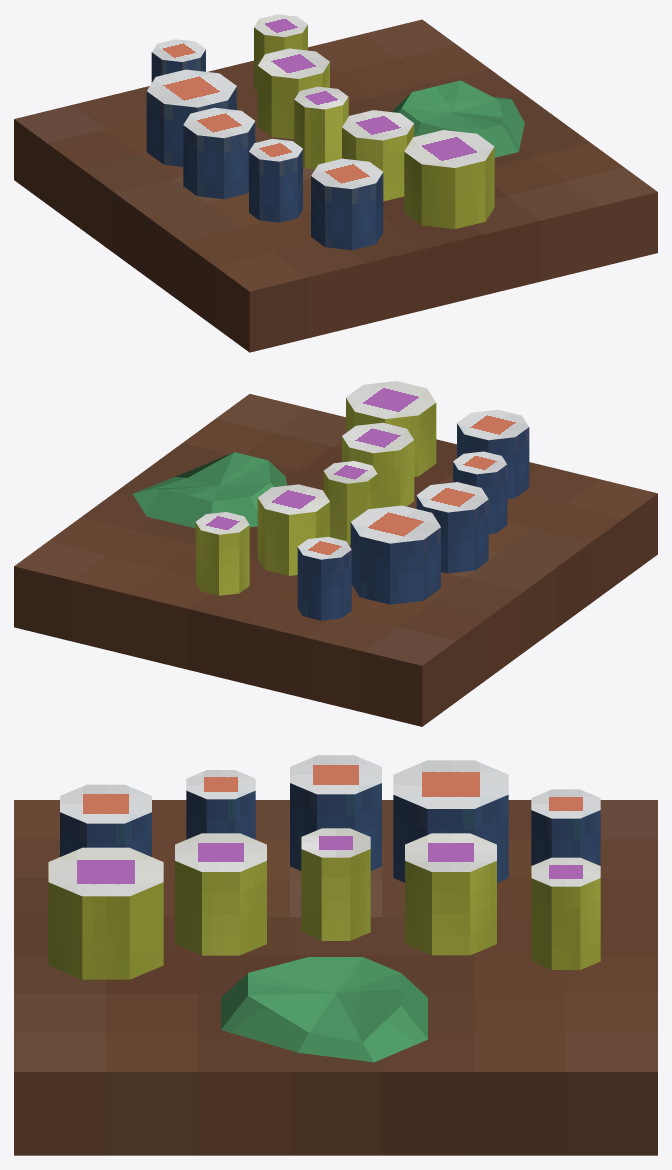
Rendered from sushi.fbx.
3 renders of one model, top to bottom at view 1: azimuth 30°, elevation 25°; view 2: azimuth 150°, elevation 25°; view 3: azimuth 270°, elevation 25°, orthographic. The views are drawn at different scales.
Visible parts, largest first — view 1: desk, sushi2_3, sushi_3, sushi_1, cos, sushi_4, sushi2_2, sushi_2, sushi2_1, sushi2, sushi2_4, sushi_5; view 2: desk, sushi_4, cos, sushi2_2, sushi_1, sushi2_3, sushi2_1, sushi2_4, sushi_5, sushi_3, sushi2, sushi_2; view 3: desk, cos, sushi2_3, sushi2_1, sushi2_2, sushi_4, sushi_1, sushi2, sushi2_4, sushi_3, sushi_5, sushi_2.
Boxes of the visible parts, left/top/right/bottom form: desk: left=14, top=19, right=657, bottom=352; sushi2_3: left=404, top=130, right=494, bottom=228; sushi_3: left=311, top=158, right=383, bottom=250; sushi_1: left=183, top=107, right=255, bottom=199; cos: left=392, top=80, right=524, bottom=157; sushi_4: left=146, top=69, right=236, bottom=166; sushi2_2: left=257, top=48, right=329, bottom=139; sushi_2: left=249, top=138, right=302, bottom=222; sushi2_1: left=342, top=110, right=414, bottom=201; sushi2: left=294, top=86, right=348, bottom=169; sushi2_4: left=254, top=14, right=307, bottom=90; sushi_5: left=151, top=39, right=205, bottom=82; desk: left=14, top=394, right=657, bottom=726; sushi_4: left=350, top=505, right=440, bottom=604; cos: left=132, top=452, right=287, bottom=528; sushi2_2: left=257, top=484, right=329, bottom=575; sushi_1: left=416, top=482, right=488, bottom=573; sushi2_3: left=346, top=381, right=436, bottom=476; sushi2_1: left=342, top=422, right=414, bottom=507; sushi2_4: left=195, top=512, right=249, bottom=595; sushi_5: left=297, top=537, right=351, bottom=620; sushi_3: left=457, top=409, right=529, bottom=498; sushi2: left=323, top=461, right=377, bottom=544; sushi_2: left=453, top=451, right=507, bottom=533; desk: left=14, top=800, right=657, bottom=1155; cos: left=221, top=957, right=427, bottom=1062; sushi2_3: left=48, top=847, right=163, bottom=979; sushi2_1: left=175, top=833, right=266, bottom=955; sushi2_2: left=405, top=833, right=496, bottom=955; sushi_4: left=393, top=760, right=508, bottom=882; sushi_1: left=290, top=755, right=381, bottom=870; sushi2: left=301, top=828, right=370, bottom=940; sushi2_4: left=531, top=857, right=600, bottom=969; sushi_3: left=60, top=784, right=151, bottom=856; sushi_5: left=531, top=789, right=600, bottom=865; sushi_2: left=186, top=770, right=255, bottom=839.
Size of the model in its own units: 43.75 by 12.5 by 43.75.
Materials: 4 (4 with a texture image).
